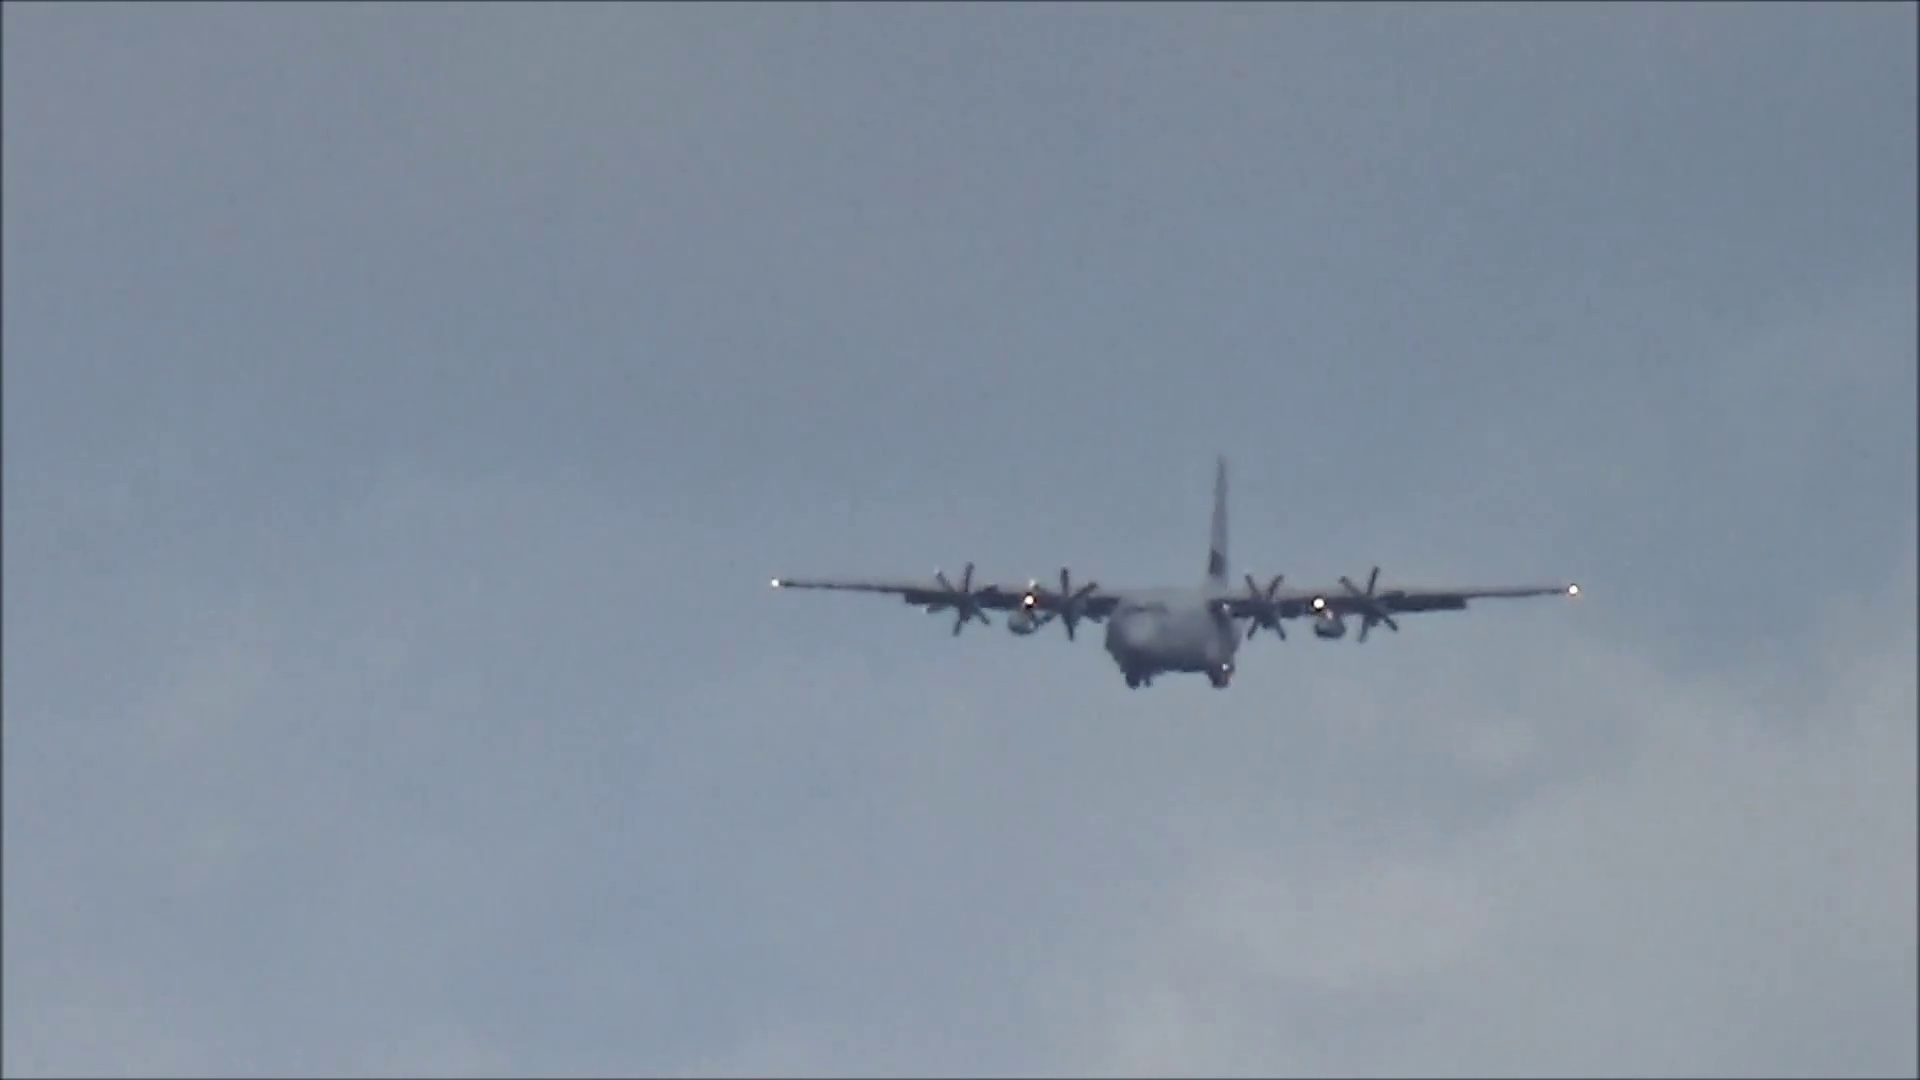Airplane: (766, 448, 1584, 691)
